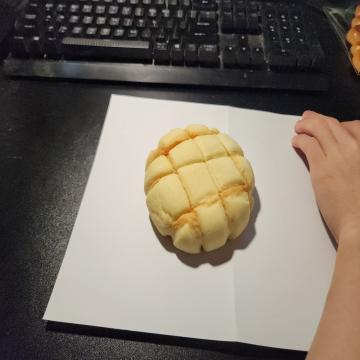melon_bread: (144, 121, 256, 260)
